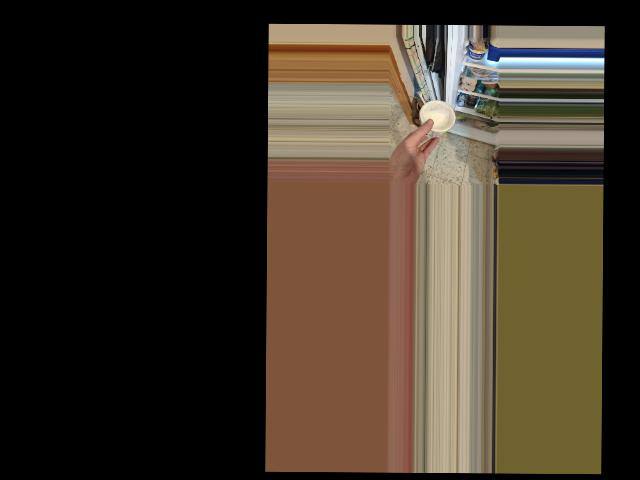cotage: (416, 98, 451, 141)
